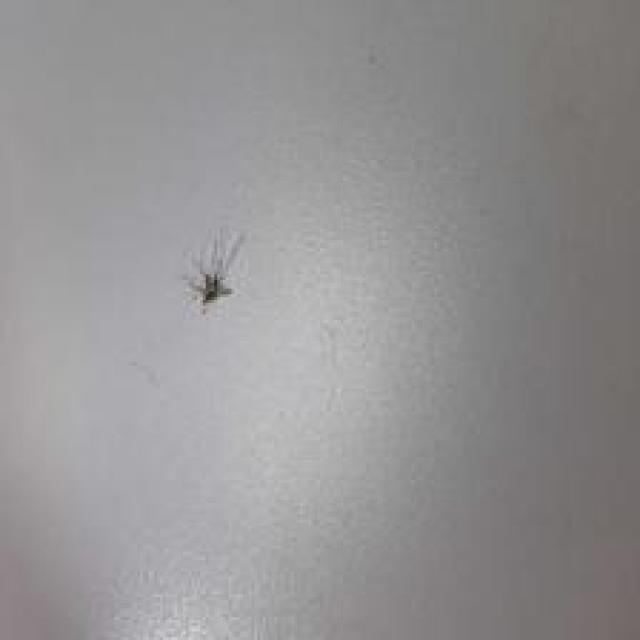Culex: (180, 226, 246, 314)
